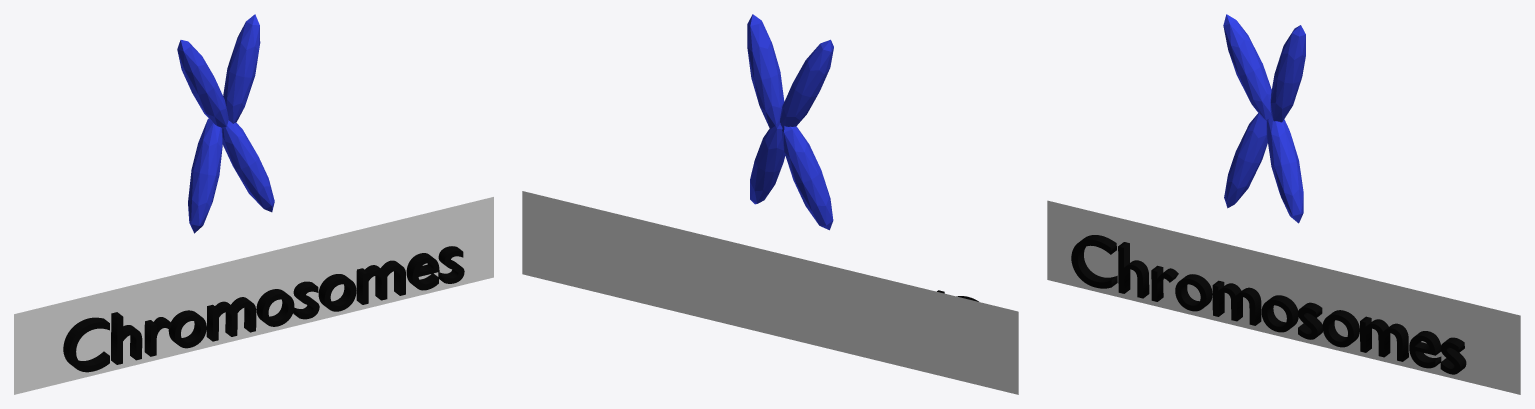
The model's file is dna4.gltf.
The picture shows the model from 3 angles, left to right: view 1: azimuth 30°, elevation 25°; view 2: azimuth 150°, elevation 25°; view 3: azimuth 330°, elevation 25°; orthographic projection. The views are drawn at different scales.
Visible parts, largest first — view 1: Plane.045, Text.030, Icosphere.015, Icosphere.004, Icosphere.016, Icosphere.014; view 2: Plane.045, Icosphere.015, Icosphere.004, Icosphere.014, Icosphere.016; view 3: Plane.045, Text.030, Icosphere.014, Icosphere.016, Icosphere.004, Icosphere.015.
Boxes of the visible parts, x1=… form: Plane.045: x1=14, y1=197, x2=493, y2=394; Text.030: x1=63, y1=246, x2=464, y2=372; Icosphere.015: x1=188, y1=118, x2=222, y2=233; Icosphere.004: x1=223, y1=14, x2=260, y2=123; Icosphere.016: x1=222, y1=120, x2=274, y2=212; Icosphere.014: x1=177, y1=40, x2=228, y2=128; Plane.045: x1=522, y1=191, x2=1018, y2=394; Icosphere.015: x1=782, y1=125, x2=833, y2=230; Icosphere.004: x1=747, y1=14, x2=784, y2=128; Icosphere.014: x1=780, y1=39, x2=833, y2=127; Icosphere.016: x1=750, y1=119, x2=785, y2=204; Plane.045: x1=1047, y1=200, x2=1520, y2=394; Text.030: x1=1071, y1=235, x2=1466, y2=374; Icosphere.014: x1=1223, y1=14, x2=1271, y2=120; Icosphere.016: x1=1266, y1=116, x2=1303, y2=223; Icosphere.004: x1=1270, y1=25, x2=1305, y2=122; Icosphere.015: x1=1224, y1=113, x2=1267, y2=208.
Size of the model in its own units: 0.905 by 0.5655 by 0.1043.
